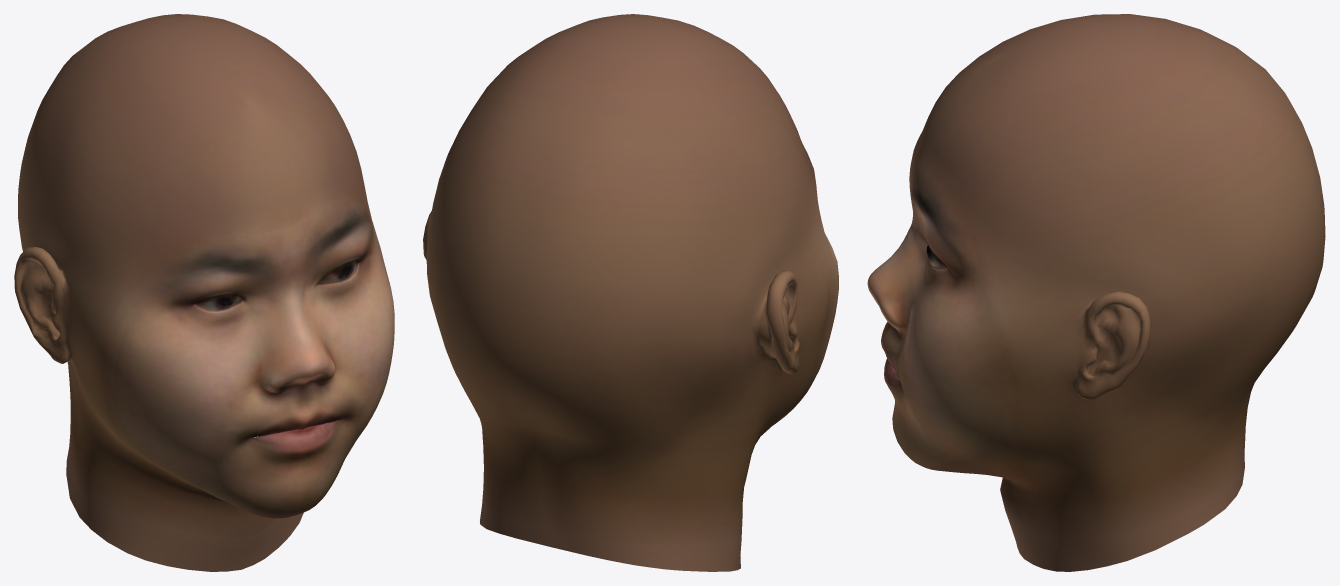
The picture shows the model from 3 angles, left to right: view 1: azimuth 30°, elevation 25°; view 2: azimuth 150°, elevation 25°; view 3: azimuth 270°, elevation 25°; orthographic projection. The views are drawn at different scales.
Visible parts, largest first — view 1: HeadHires; view 2: HeadHires; view 3: HeadHires.
Boxes of the visible parts, x1,y1,x2,y2 form: HeadHires: (14, 14, 394, 571); HeadHires: (423, 14, 838, 571); HeadHires: (867, 14, 1325, 571).
Bounding box in the file's own units: 196 × 283 × 226.
1 material, 1 textured.
